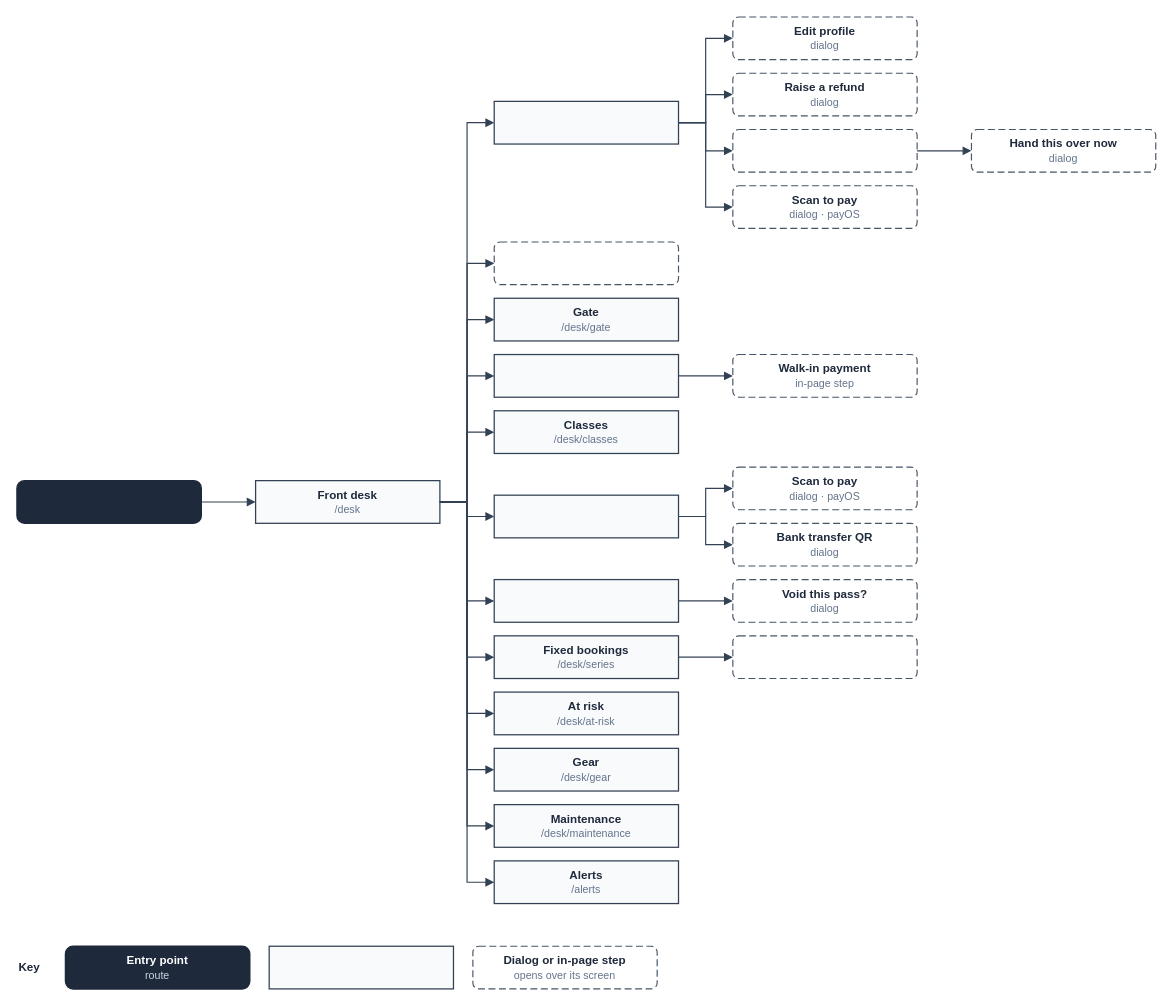
This 1174x1007 diagram has some shape labels left out. Each missing label, with the centre of its shape:
Close shift dialog: the point at 586,263
Court map /desk/courts: the point at 586,375
Day passes /desk/day-passes: the point at 586,600
Member profile /desk/member/$id: the point at 586,122
Payments /desk/payments: the point at 586,516
Reset password dialog: the point at 824,150
Screen route: the point at 361,967
Sign in /login: the point at 109,501
Stop this fixed booking? dialog: the point at 824,657
